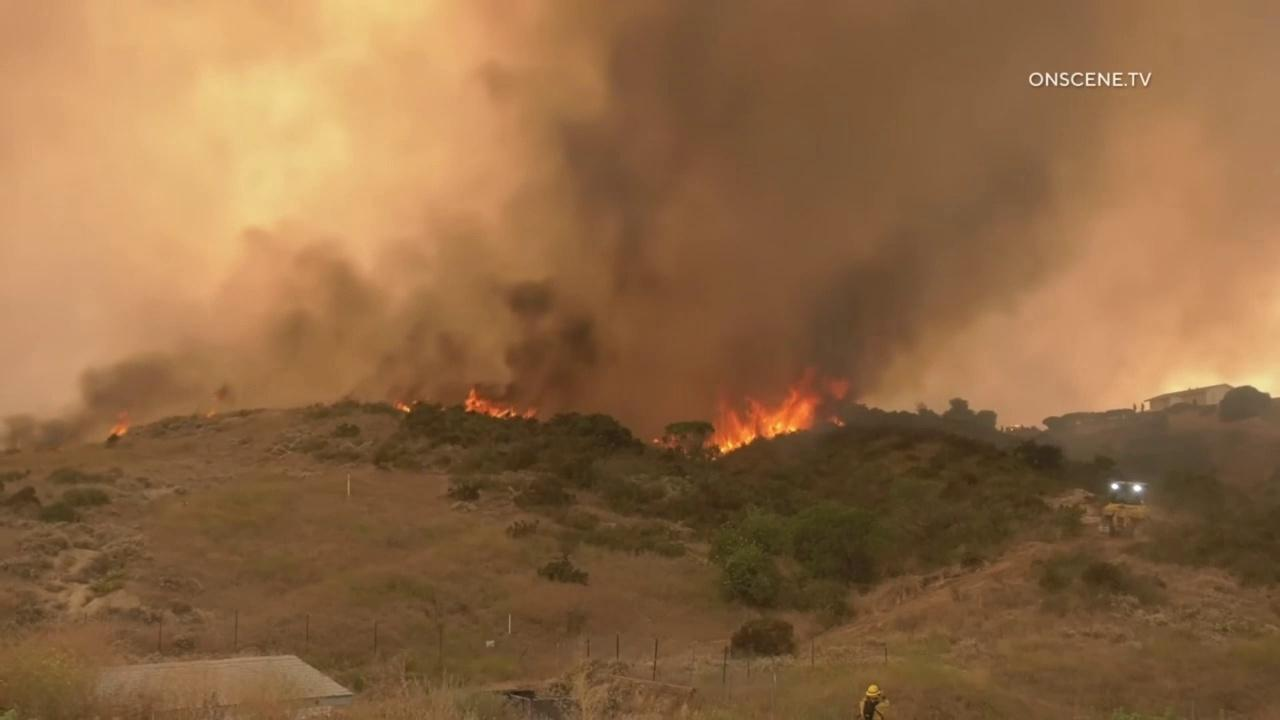fire: (699, 363, 851, 461), (462, 387, 517, 420), (108, 408, 129, 438), (390, 398, 411, 412), (521, 407, 539, 420), (669, 433, 678, 448), (205, 410, 216, 420), (411, 398, 420, 406), (652, 438, 660, 444)
smoke: (0, 0, 1280, 448)
